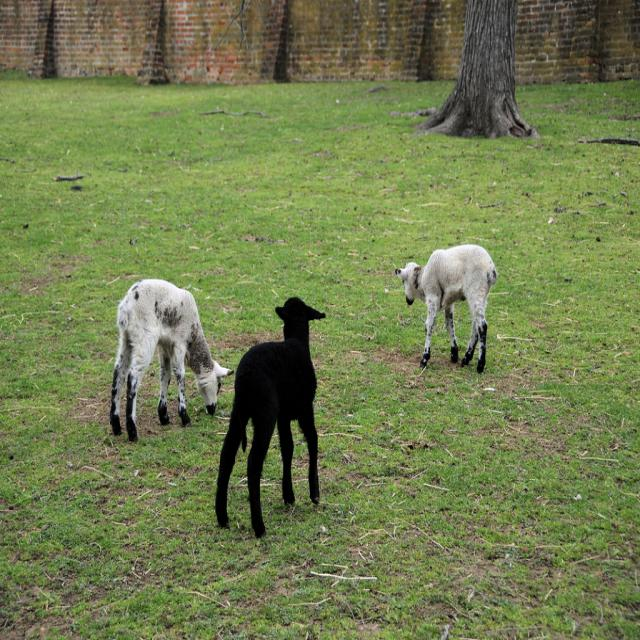Sheep: (213, 298, 325, 532), (106, 276, 233, 438), (396, 244, 498, 376)
